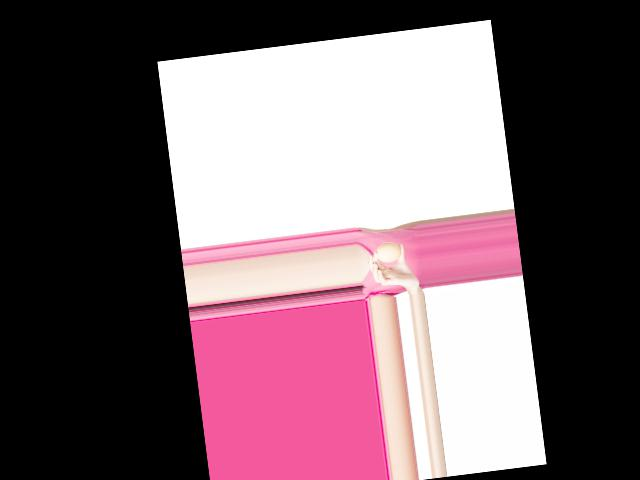egg: (374, 241, 402, 264)
